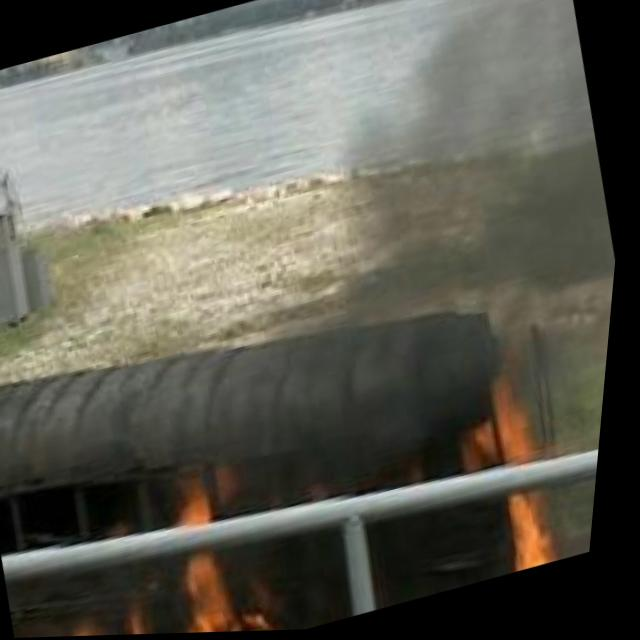Fire: (422, 371, 592, 591), (24, 562, 313, 638), (152, 456, 259, 532)
